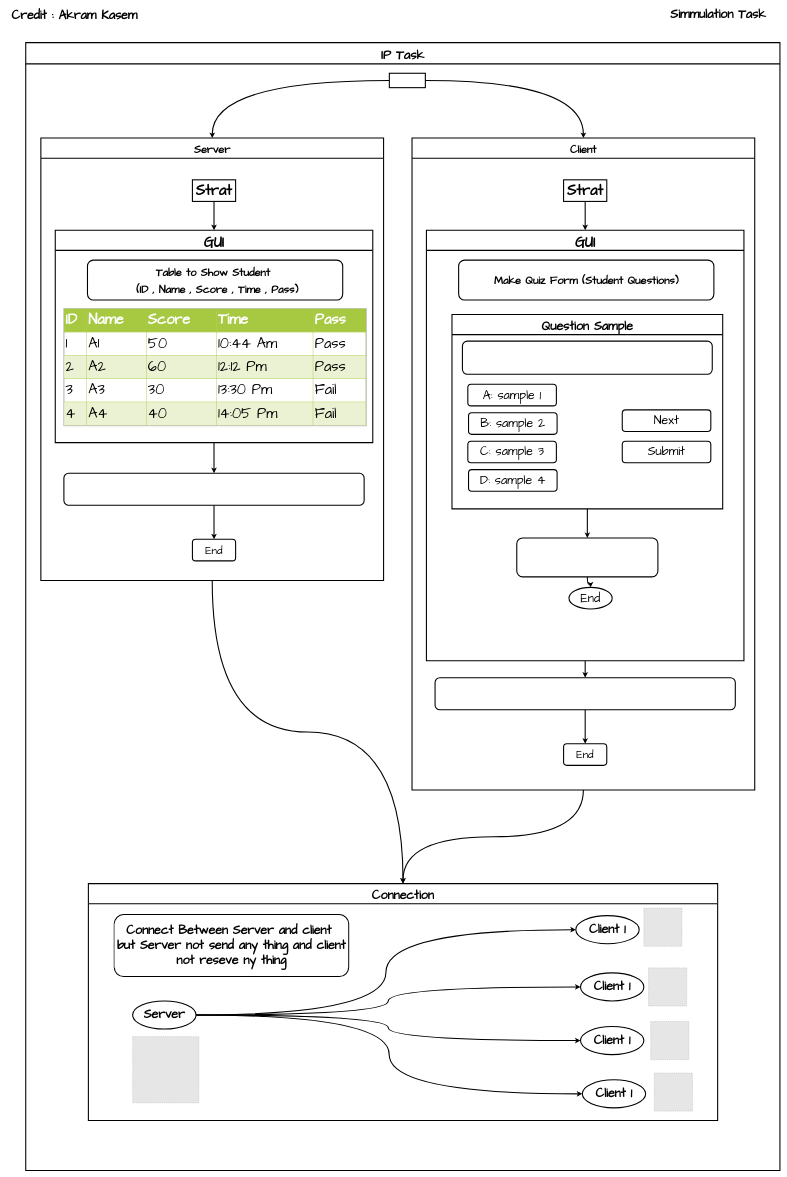
Image size: 787x1177. Some labels were removed from this diagram. Grey dashed boxes stand in for pictures. The centre of each missing label's shape, as x and y in pixels:
Convert Client to send Data to Server: the point at 585,693
Convert server to get Data From any Client: the point at 213,489
Start: the point at 407,80
View Final Score: the point at 587,557
What is java Compiler: the point at 587,357
